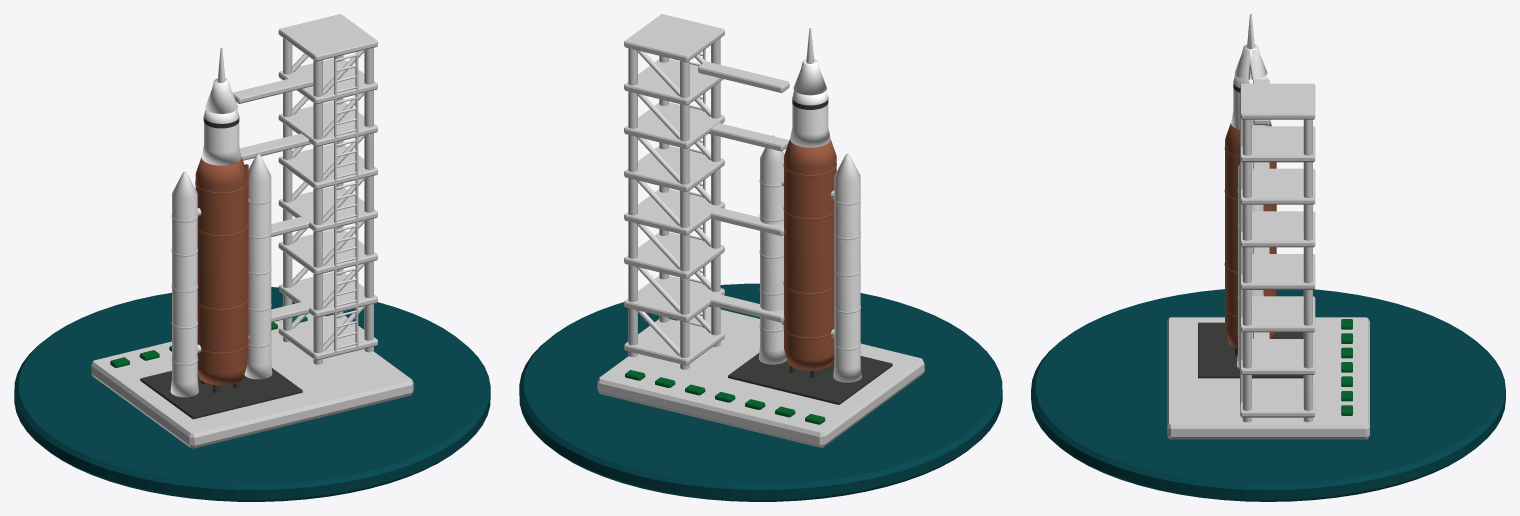
Rendered from kennedy-space-center.glb.
3 renders of one model, left to right at view 1: azimuth 30°, elevation 25°; view 2: azimuth 150°, elevation 25°; view 3: azimuth 270°, elevation 25°, orthographic.
Visible parts, largest first — view 1: body, pedestal; view 2: body, pedestal; view 3: pedestal, body.
Part boxes in pixels (box(x1,y1,x2,y2)): body: box(91, 14, 413, 448); pedestal: box(14, 287, 490, 501); body: box(597, 14, 924, 447); pedestal: box(519, 283, 1002, 501); pedestal: box(1031, 289, 1505, 501); body: box(1167, 14, 1369, 439).
Bounding box in the file's own units: 4.4 × 3.78 × 4.4.
